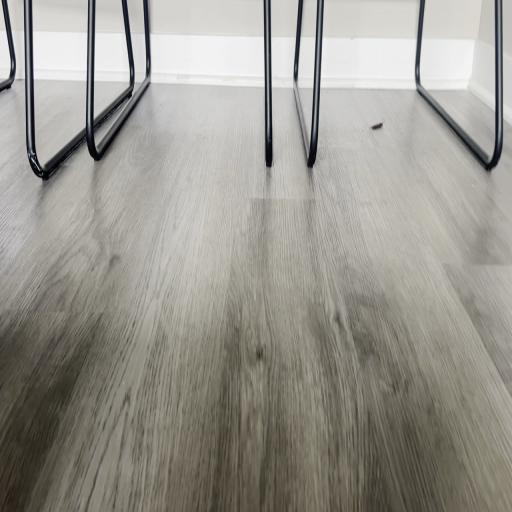cockroach: (370, 119, 384, 131)
